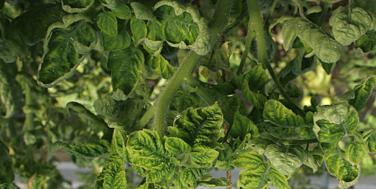Tomato leaf yellow virus: (35, 19, 99, 90), (143, 1, 222, 56), (127, 130, 203, 184), (229, 128, 295, 189), (257, 100, 316, 136)
